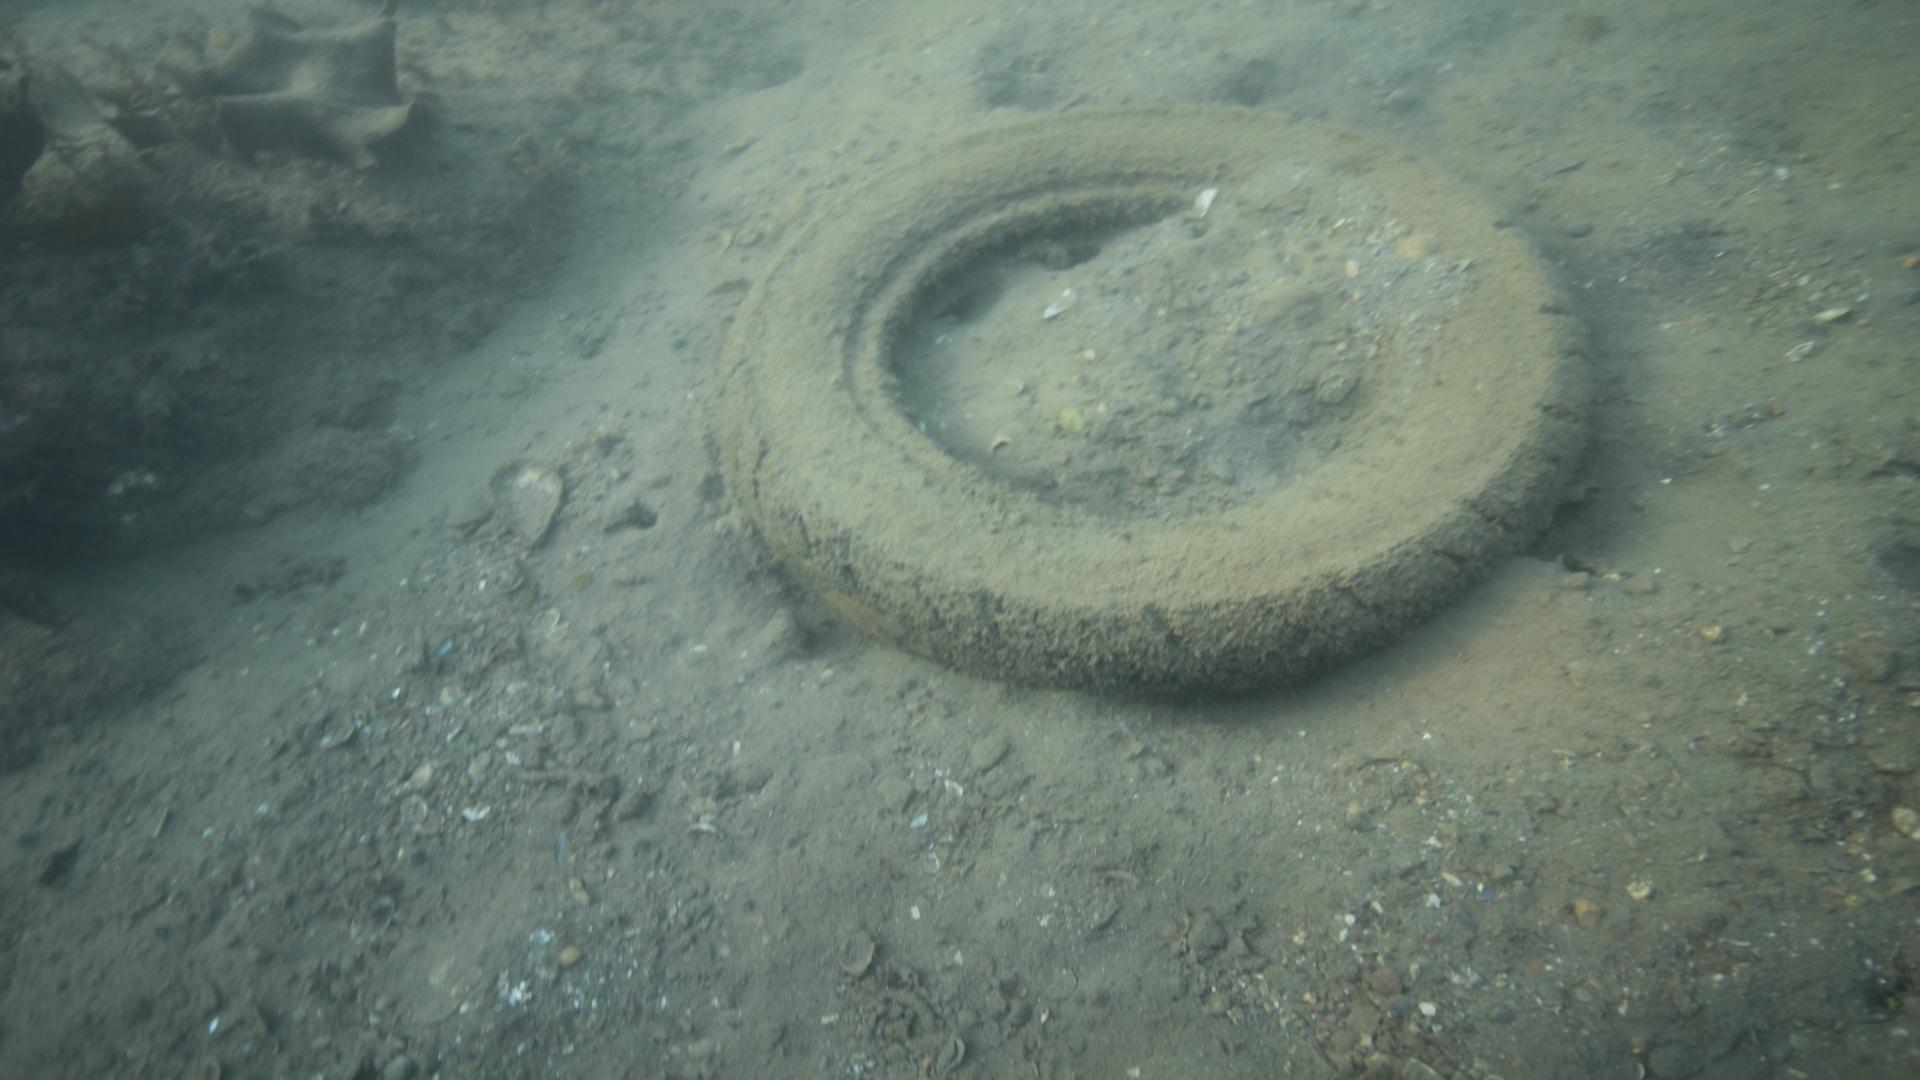tire: (712, 102, 1596, 694)
